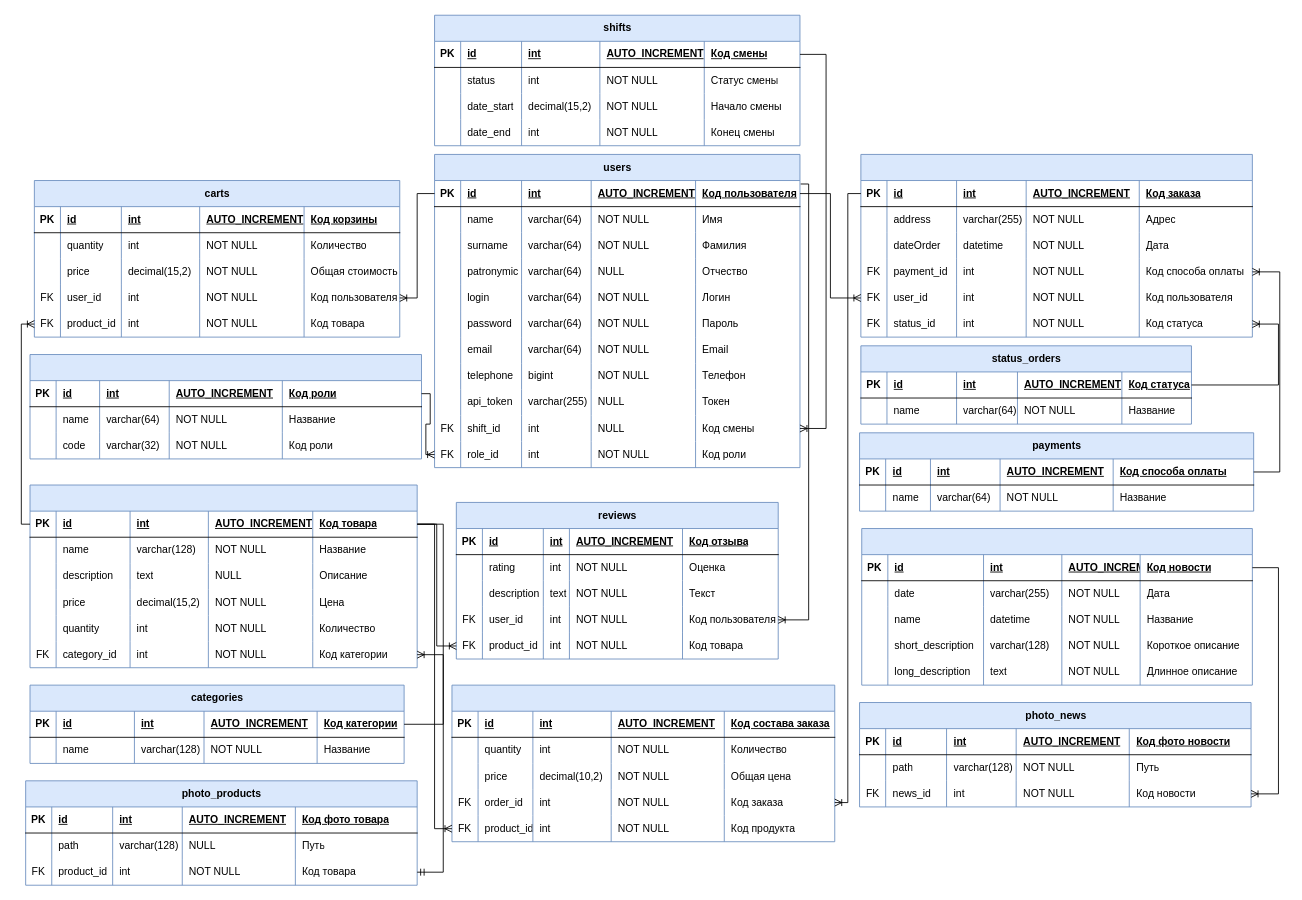
Some shapes in this 1302 by 900 pixel diagram are drawn without their labels. Here are the shapes that lost their labels. From the top down, the box of each, then its label:
(860, 154, 1252, 337): orders
(29, 354, 422, 459): roles
(29, 484, 417, 668): products
(861, 528, 1252, 685): news
(451, 684, 835, 842): compounds
